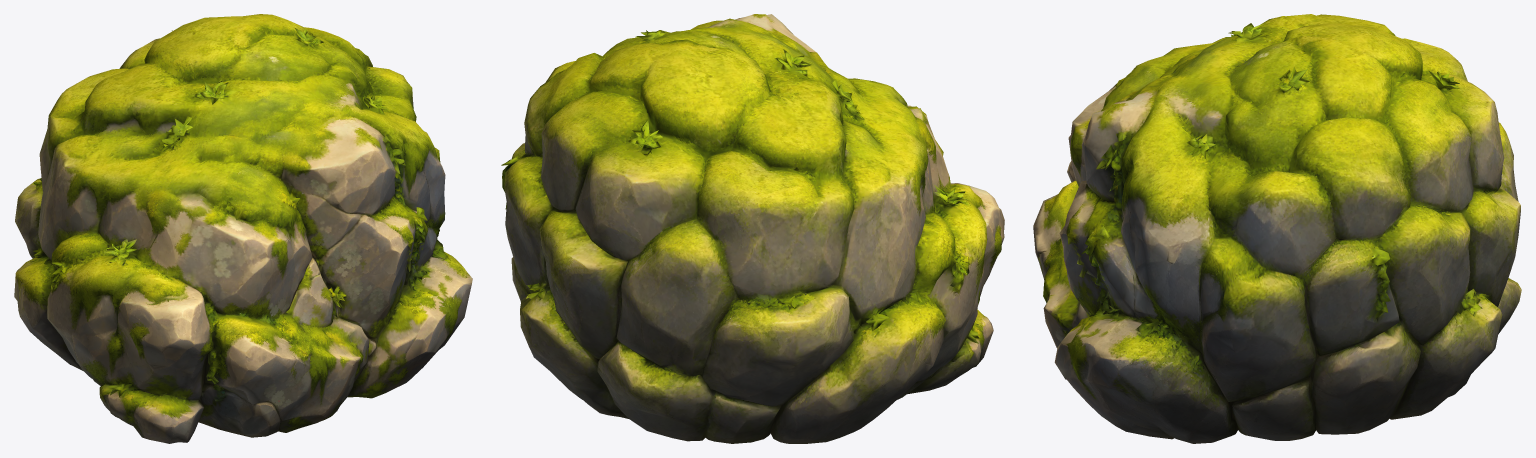
The model's file is mossy rock boulder 3d model.glb.
3 renders of one model, left to right at view 1: azimuth 30°, elevation 25°; view 2: azimuth 150°, elevation 25°; view 3: azimuth 270°, elevation 25°, orthographic. The views are drawn at different scales.
Visible parts, largest first — view 1: tripo_node_50770270-3e65-4d06-b0aa-42a55e3b08c9; view 2: tripo_node_50770270-3e65-4d06-b0aa-42a55e3b08c9; view 3: tripo_node_50770270-3e65-4d06-b0aa-42a55e3b08c9.
Boxes of the visible parts, x1,y1,x2,y2 form: tripo_node_50770270-3e65-4d06-b0aa-42a55e3b08c9: (14, 14, 472, 443); tripo_node_50770270-3e65-4d06-b0aa-42a55e3b08c9: (501, 14, 1004, 443); tripo_node_50770270-3e65-4d06-b0aa-42a55e3b08c9: (1033, 14, 1521, 443).
Size of the model in its own units: 1 by 0.7744 by 0.9651.
1 material, 1 textured.
